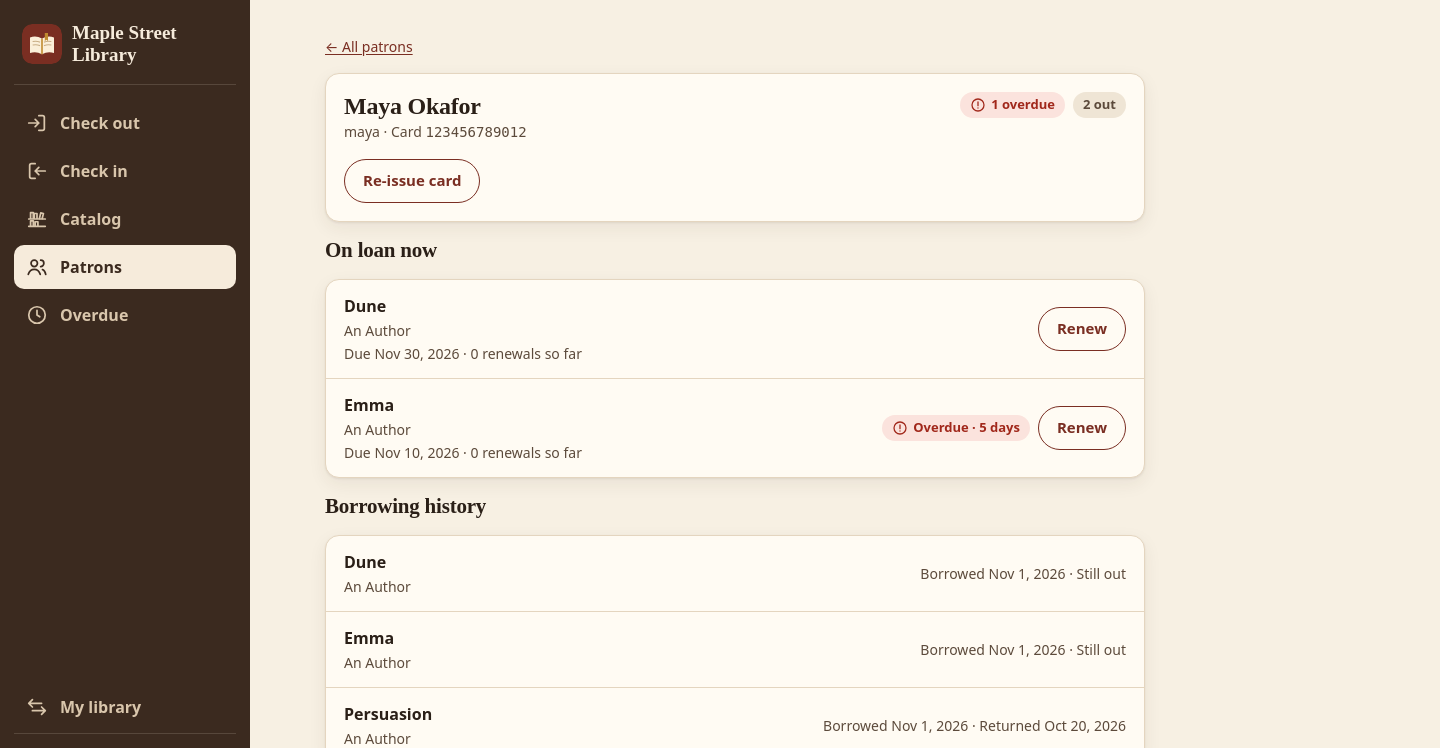
it: CIRC-5 Renewals › Overdue loan: the refusal says it is overdue, on that loan, and nothing else changes
This screenshot has width=1440, height=748.
Click the button with aria-label "Renew Emma" at (1082,428), box [1038,406,1126,450]
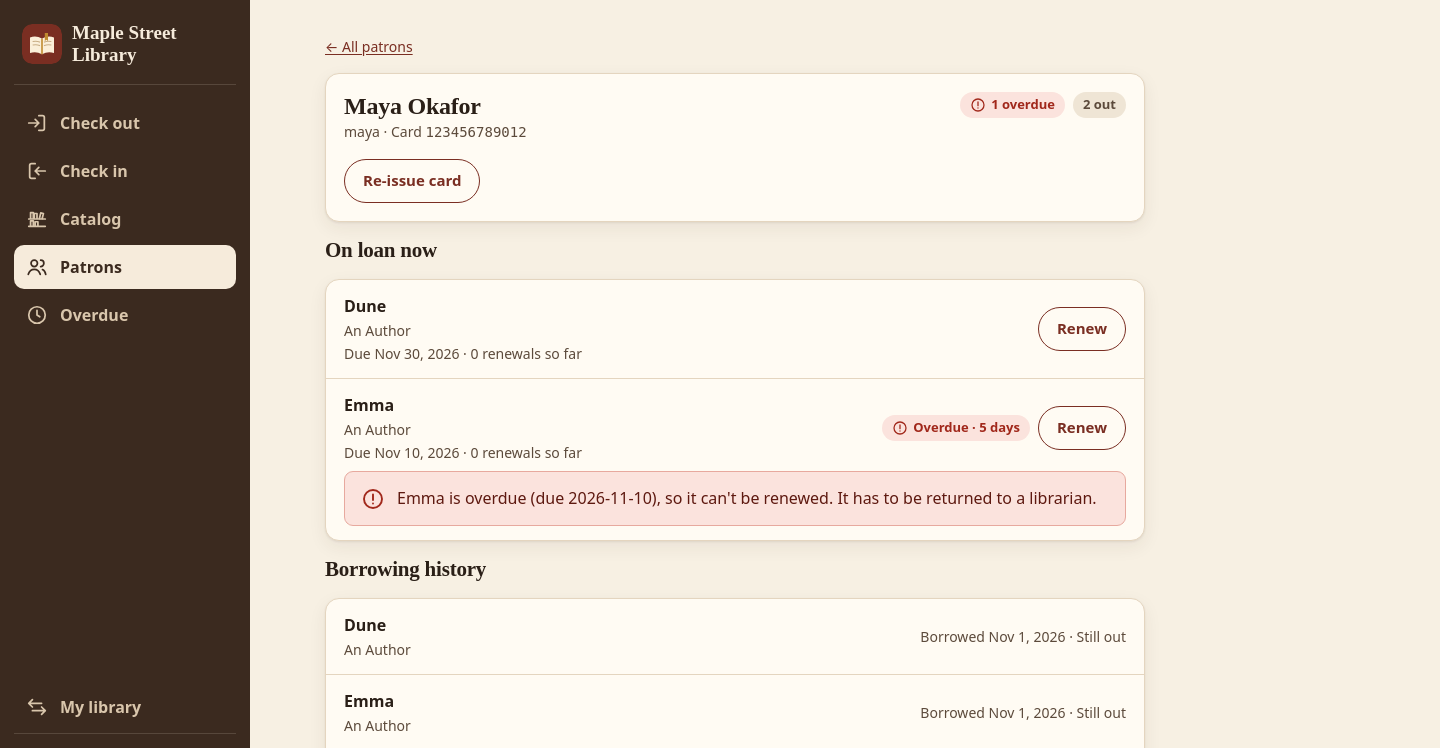
Now the message shows "is overdue", box [397,487,1097,509]
